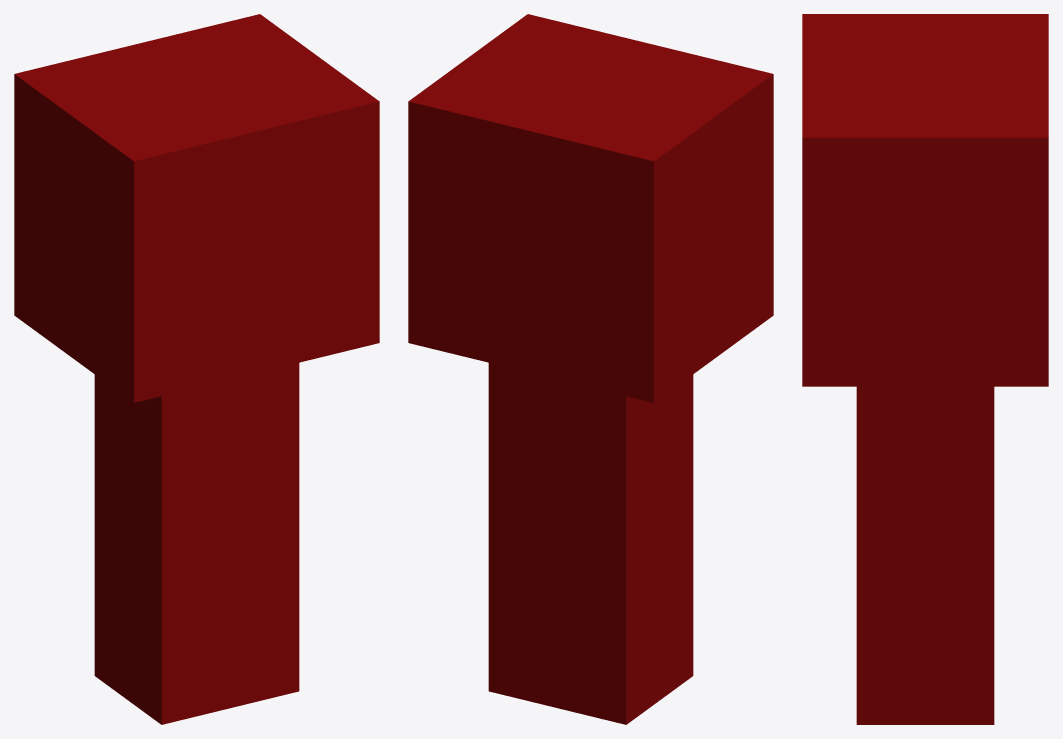
Rendered from buildings009 (280).obj.
The picture shows the model from 3 angles, left to right: view 1: azimuth 30°, elevation 25°; view 2: azimuth 150°, elevation 25°; view 3: azimuth 270°, elevation 25°; orthographic projection. The views are drawn at different scales.
Parts seen in each view (by area): view 1: buildings009 (280); view 2: buildings009 (280); view 3: buildings009 (280).
Boxes of the visible parts, x1=… form: buildings009 (280): x1=14, y1=14, x2=379, y2=724; buildings009 (280): x1=408, y1=14, x2=773, y2=724; buildings009 (280): x1=802, y1=14, x2=1048, y2=724.
Bounding box in the file's own units: 4.46 × 10.33 × 3.75.
